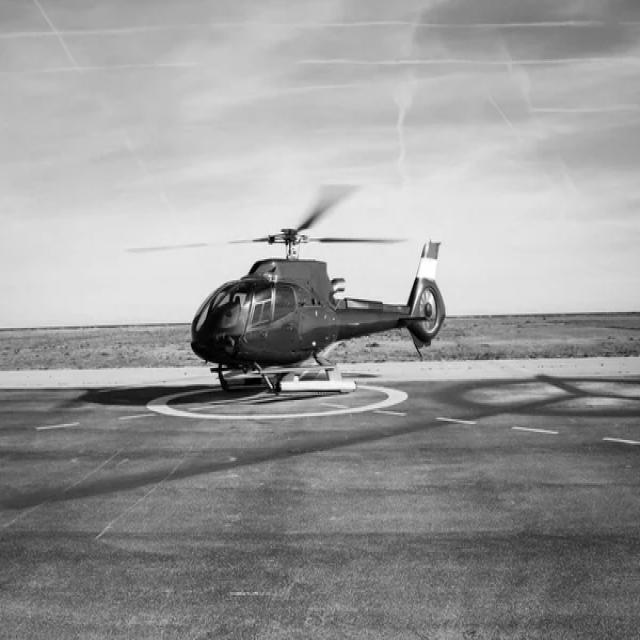Helicopter: (191, 185, 446, 392)
